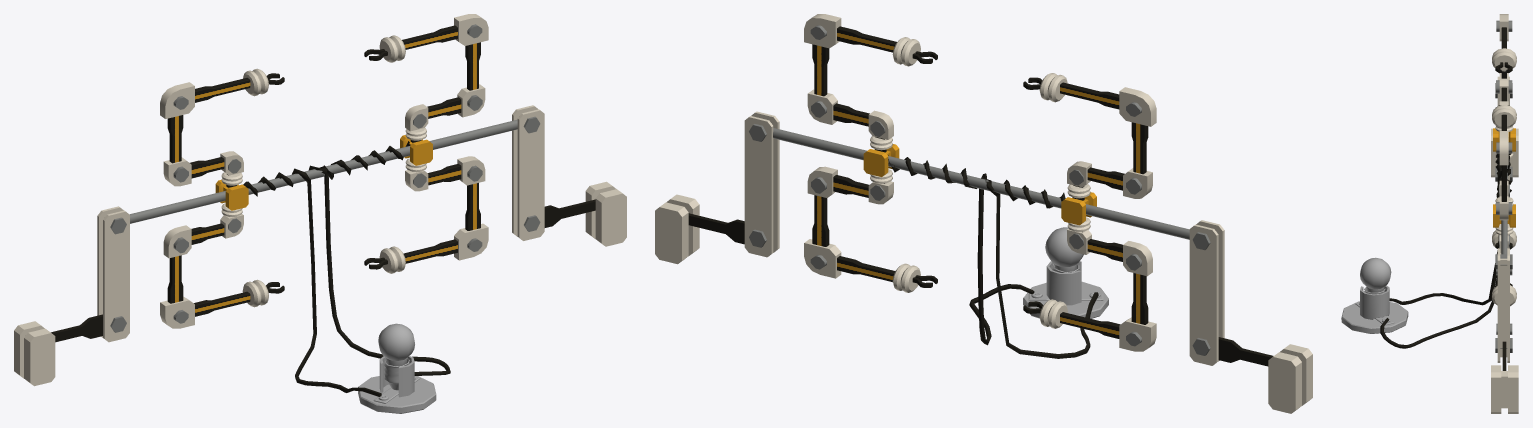
File: MagnetArm.fbx
3 views of the same model, side by side, from view 1: azimuth 30°, elevation 25°; view 2: azimuth 150°, elevation 25°; view 3: azimuth 270°, elevation 25° (orthographic). The views are drawn at different scales.
Visible parts, largest first — view 1: MagnetArmMain, MagnetArm01, MagnetArm02, MagnetArm_BulbSocket, MagnetArm_LightBulb; view 2: MagnetArmMain, MagnetArm02, MagnetArm01, MagnetArm_BulbSocket, MagnetArm_LightBulb; view 3: MagnetArmMain, MagnetArm02, MagnetArm_BulbSocket, MagnetArm01, MagnetArm_LightBulb.
Part boxes in pixels (x1,y1,x2,y2): MagnetArmMain: (14, 105, 626, 396); MagnetArm01: (160, 68, 284, 328); MagnetArm02: (364, 14, 488, 273); MagnetArm_BulbSocket: (358, 356, 436, 413); MagnetArm_LightBulb: (378, 323, 414, 366); MagnetArmMain: (655, 111, 1312, 413); MagnetArm02: (804, 14, 937, 292); MagnetArm01: (1023, 73, 1156, 351); MagnetArm_BulbSocket: (1023, 261, 1108, 318); MagnetArm_LightBulb: (1045, 227, 1083, 272); MagnetArmMain: (1380, 76, 1518, 413); MagnetArm02: (1492, 105, 1516, 334); MagnetArm_BulbSocket: (1341, 285, 1408, 333); MagnetArm01: (1492, 14, 1516, 249); MagnetArm_LightBulb: (1360, 257, 1391, 292).
Bounding box in the file's own units: 30.55 × 14.17 × 9.25.
